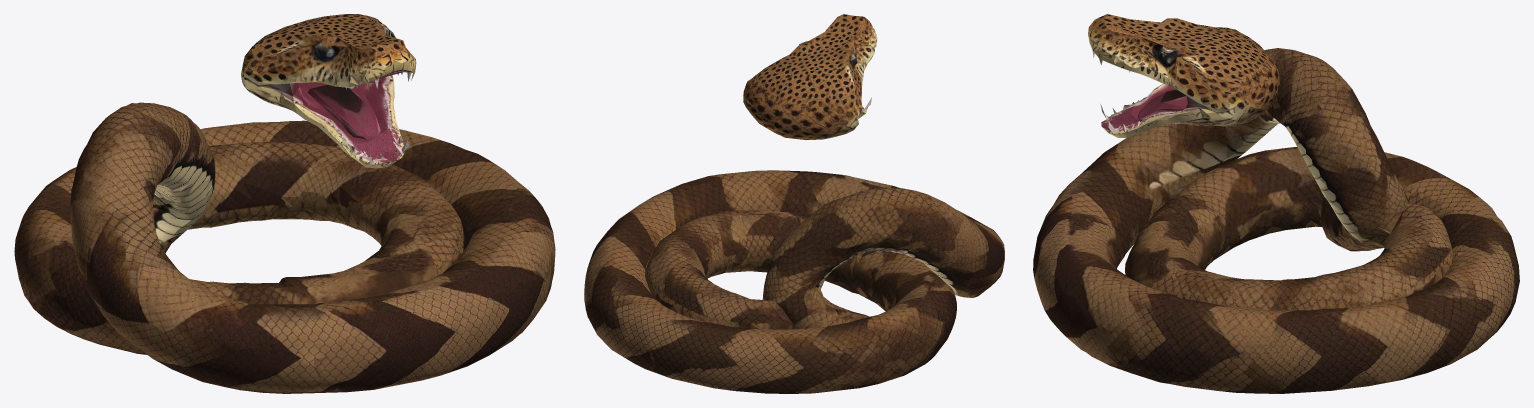
File: fauna_snake.glb
3 renders of one model, left to right at view 1: azimuth 30°, elevation 25°; view 2: azimuth 150°, elevation 25°; view 3: azimuth 270°, elevation 25°, orthographic. The views are drawn at different scales.
Bounding box in the file's own units: 1.86 × 1.21 × 1.9.
1 material, 1 textured.
